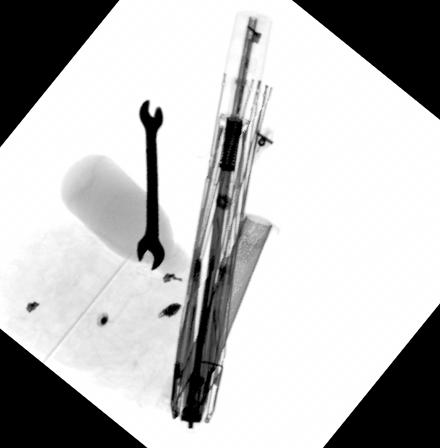Wrench: (134, 98, 168, 271)
